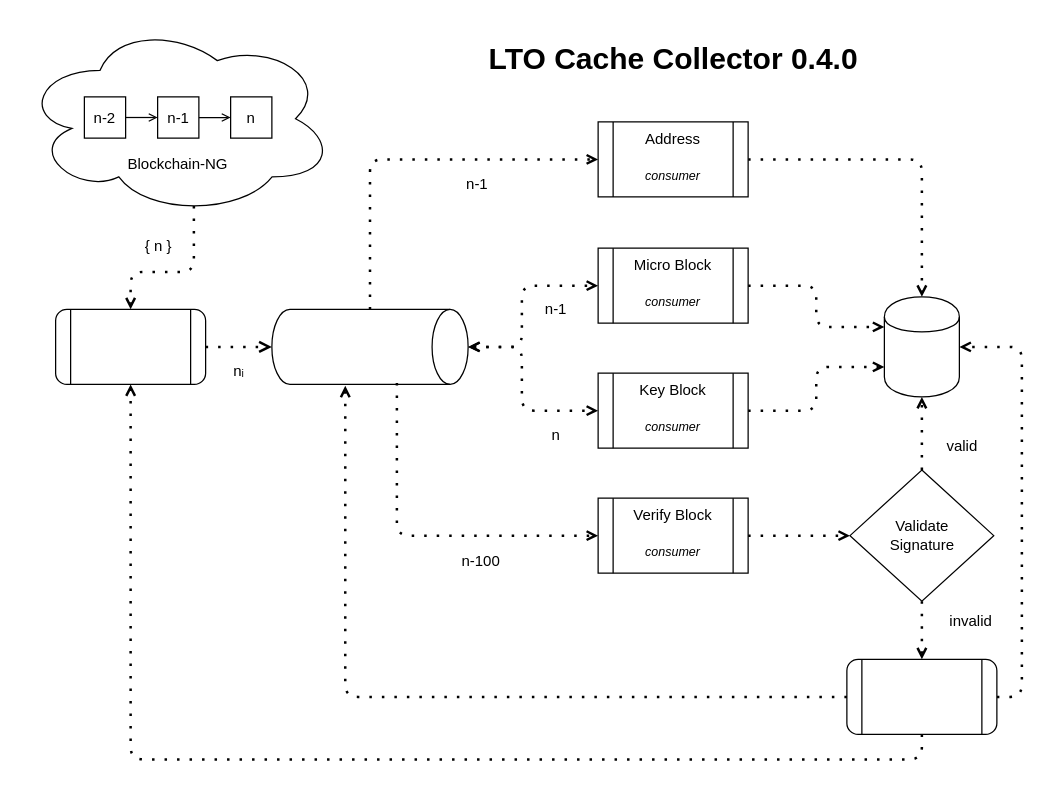
Some shapes in this 1054 by 791 pixel diagram are drawn without their labels. The shapes that lost their labels are listed below. From the top down, each one's centre as x and y in pixels, then its label:
(x=130, y=346): Block Collector producer
(x=369, y=346): Queue message broker
(x=921, y=346): DB
(x=921, y=696): Rewind script
